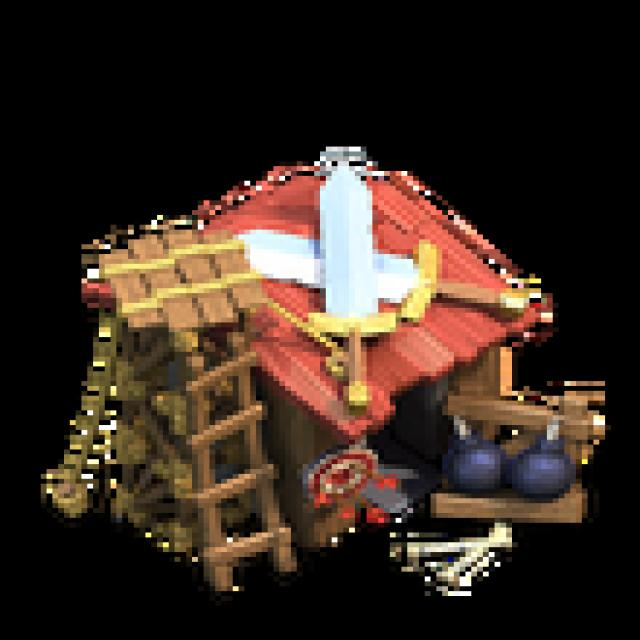barracks: (46, 113, 614, 626)
